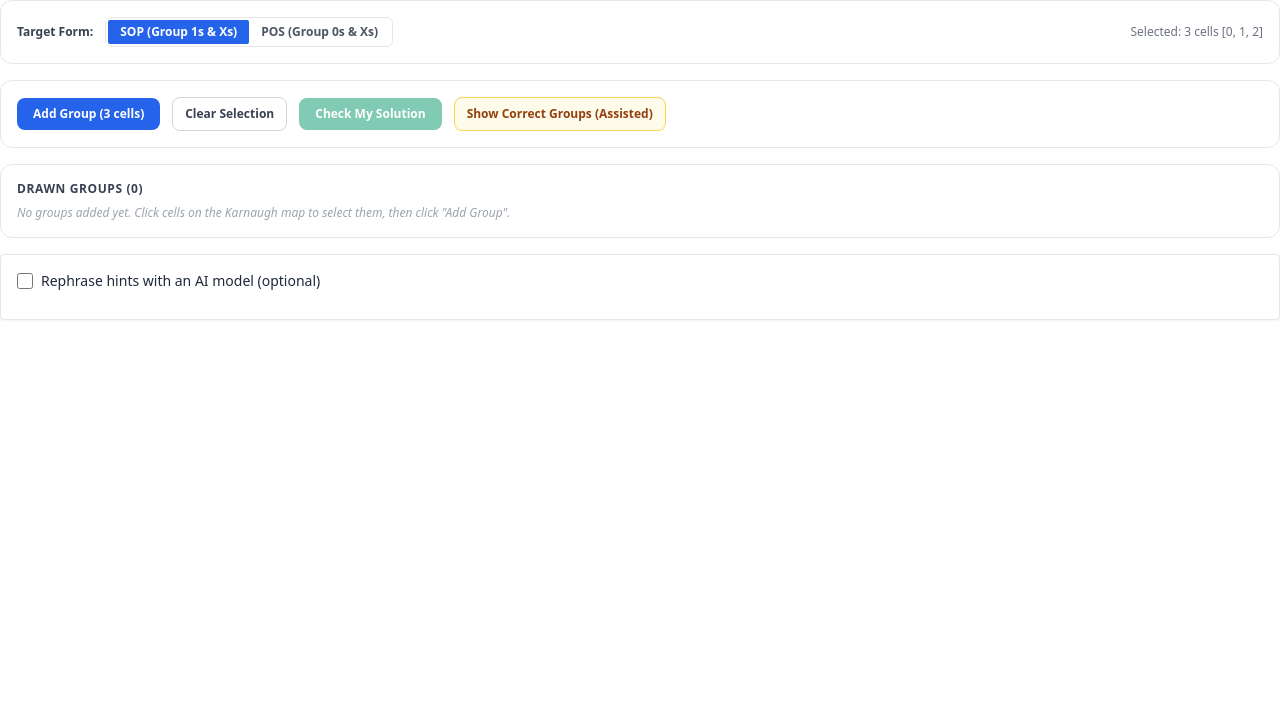
Test case: StudentModePanel › diagnoses a 3-cell group with grouped-non-power-of-two error
The image size is (1280, 720).
Click the button "Add Group (3 cells)": (89, 114) [17,98,160,130]
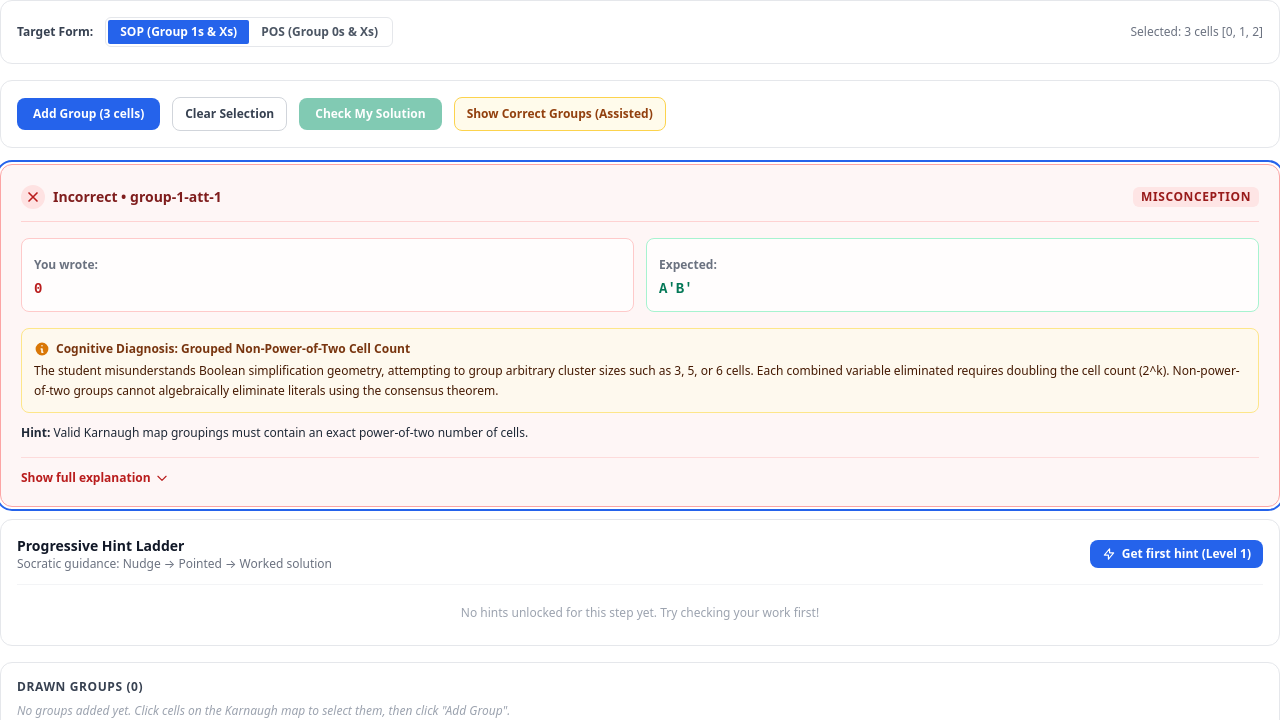
Expected: the text "Cognitive Diagnosis: Grouped Non-Power-of-Two Cell Count" is shown, [34,340,410,357]
